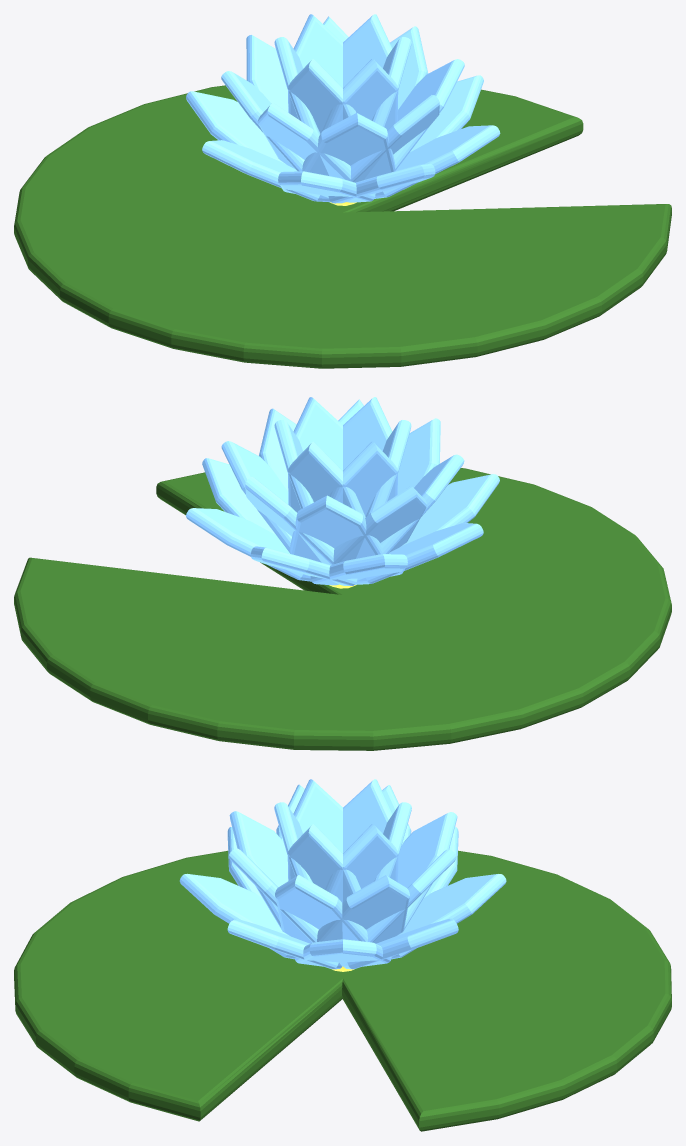
Rendered from blue_lotus.glb.
3 renders of one model, top to bottom at view 1: azimuth 30°, elevation 25°; view 2: azimuth 150°, elevation 25°; view 3: azimuth 270°, elevation 25°, orthographic.
Parts seen in each view (by area): view 1: blue_lotus, petal (×19); view 2: blue_lotus, petal (×19); view 3: blue_lotus, petal (×19).
Boxes of the visible parts, x1,y1,x2,y2 form: blue_lotus: (14, 85, 671, 368); petal (×19): (186, 14, 500, 203); blue_lotus: (14, 468, 671, 750); petal (×19): (186, 397, 499, 585); blue_lotus: (14, 850, 671, 1131); petal (×19): (179, 779, 506, 969).
Size of the model in its own units: 0.1813 by 0.06 by 0.1826.
